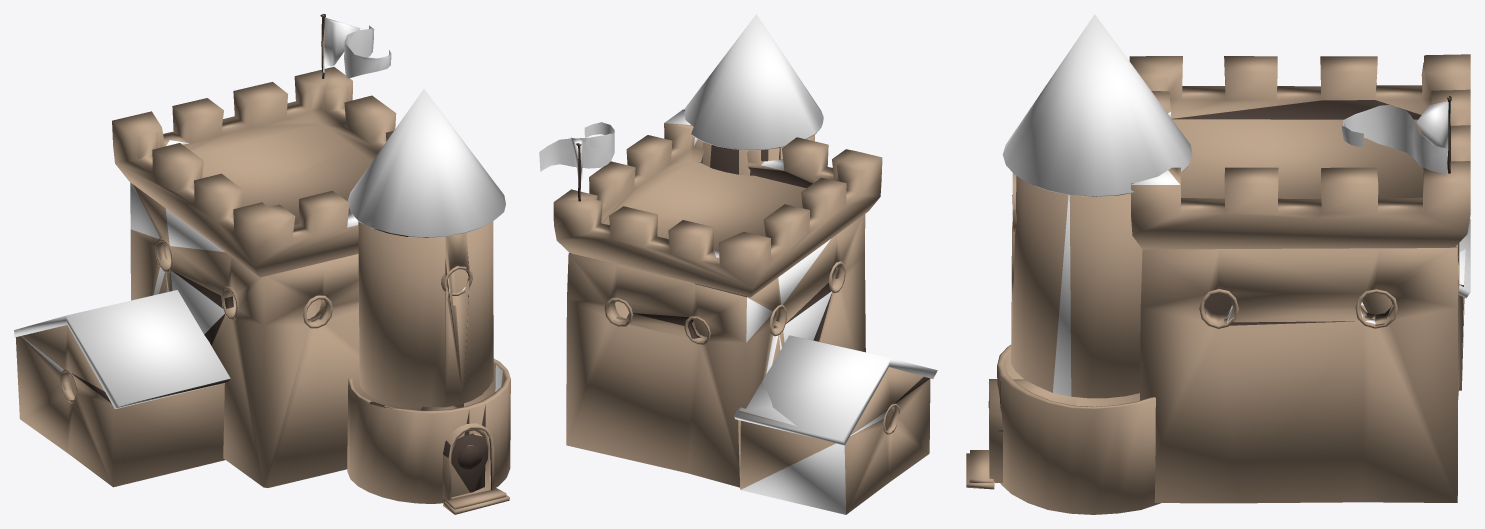
File: castle.6.glb
3 renders of one model, left to right at view 1: azimuth 30°, elevation 25°; view 2: azimuth 150°, elevation 25°; view 3: azimuth 270°, elevation 25°, orthographic. The views are drawn at different scales.
Parts seen in each view (by area): view 1: castle; view 2: castle; view 3: castle.
Part boxes in pixels (left/top/right/bottom): castle: left=14, top=14, right=510, bottom=514; castle: left=539, top=14, right=937, bottom=514; castle: left=966, top=14, right=1470, bottom=514.
Bounding box in the file's own units: 2.75 × 2.9 × 2.9.
